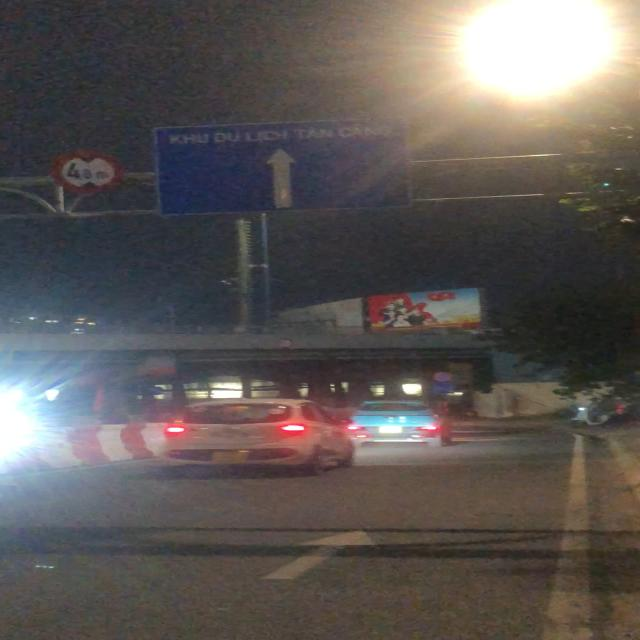Bien bao han che chieu cao: (48, 148, 125, 197)
